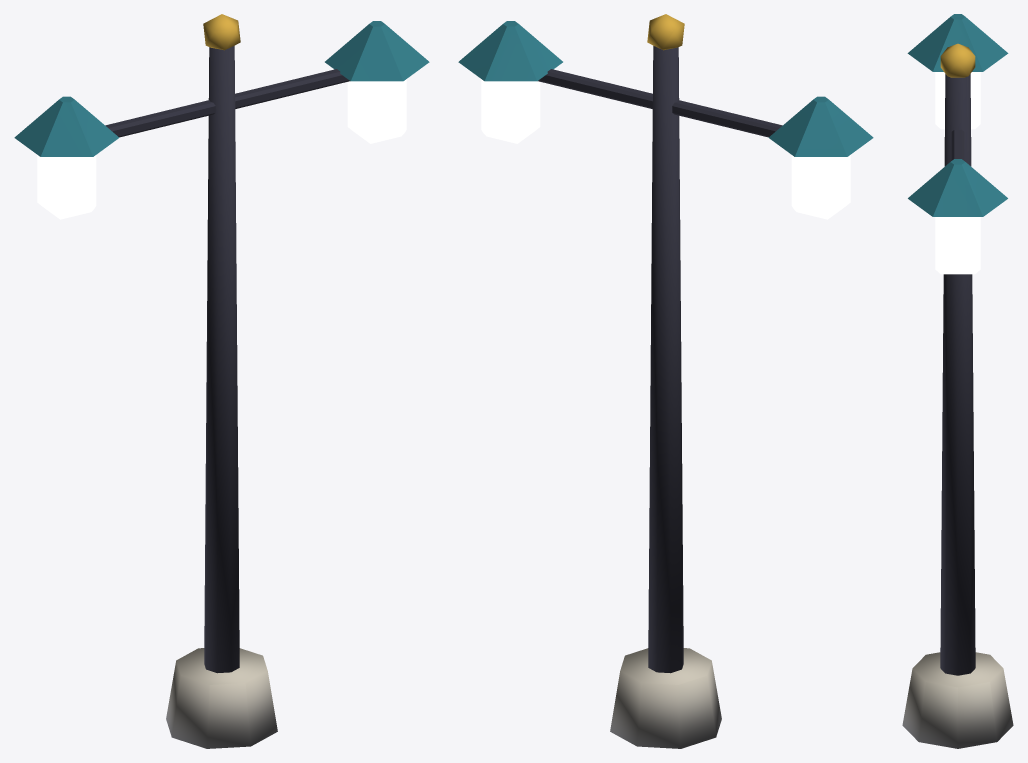
Rendered from paper_lantern.glb.
3 views of the same model, side by side, from view 1: azimuth 30°, elevation 25°; view 2: azimuth 150°, elevation 25°; view 3: azimuth 270°, elevation 25° (orthographic). The views are drawn at different scales.
Visible parts, largest first — view 1: Post, Glow; view 2: Post, Glow; view 3: Post, Glow.
Boxes of the visible parts, box(x1,y1,x2,y2) form: Post: box(14, 14, 429, 748); Glow: box(37, 79, 406, 219); Post: box(458, 14, 873, 748); Glow: box(481, 79, 850, 219); Post: box(902, 14, 1013, 748); Glow: box(935, 72, 980, 274).
Size of the model in its own units: 1.71 by 2.98 by 0.44.
